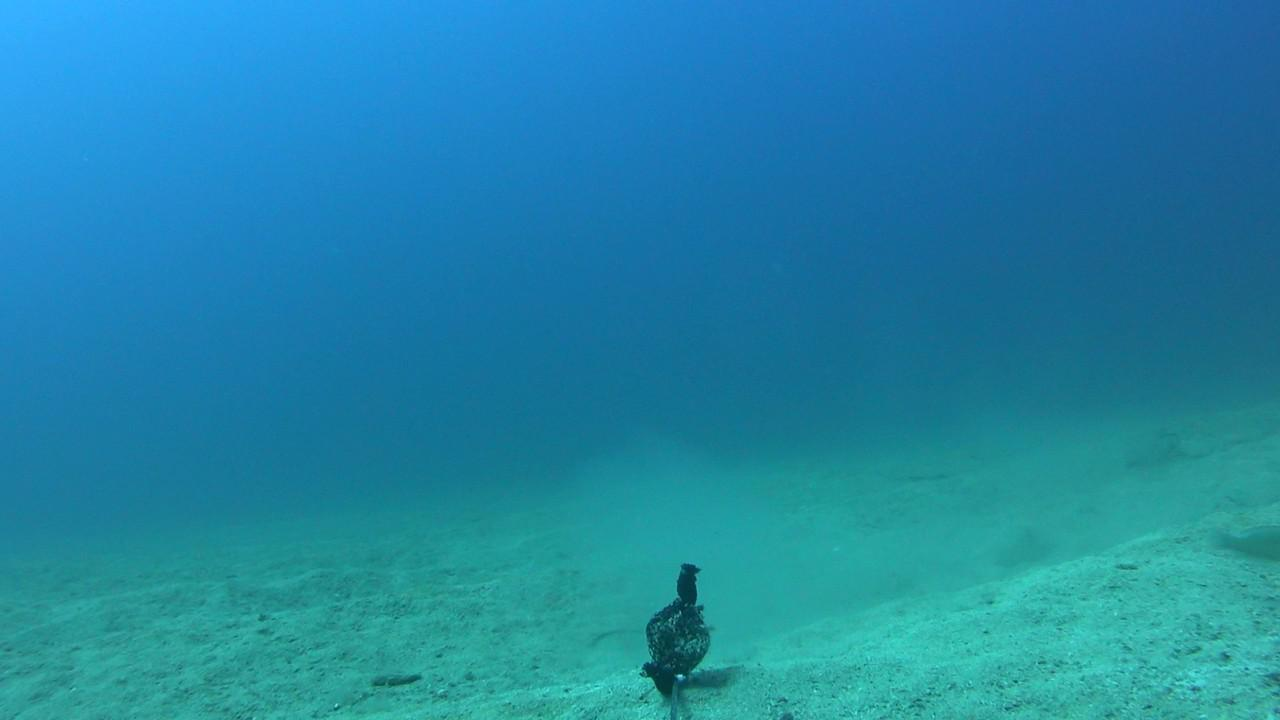myliobatis: (894, 450, 970, 498)
